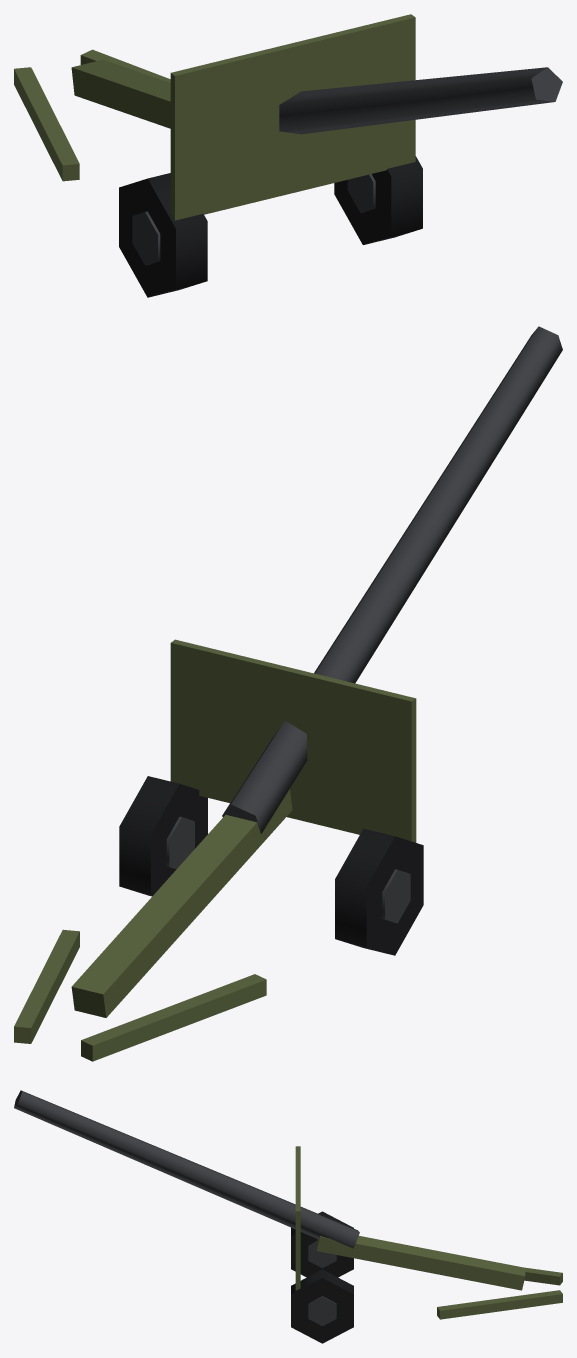
Rendered from unit_mil_gun_a07_lod1.glb.
The picture shows the model from 3 angles, top to bottom: view 1: azimuth 30°, elevation 25°; view 2: azimuth 150°, elevation 25°; view 3: azimuth 270°, elevation 25°; orthographic projection. The views are drawn at different scales.
Visible parts, largest first — view 1: body, barrel, wheel_0, wheel_1; view 2: body, barrel, wheel_0, wheel_1; view 3: barrel, body, wheel_1, wheel_0.
Part boxes in pixels (x1,y1,x2,y2): body: [14, 14, 415, 220]; barrel: [279, 67, 562, 134]; wheel_0: [119, 173, 207, 297]; wheel_1: [334, 156, 422, 244]; body: [14, 639, 416, 1061]; barrel: [222, 326, 562, 833]; wheel_0: [335, 828, 423, 955]; wheel_1: [119, 776, 207, 896]; barrel: [14, 1090, 359, 1248]; body: [295, 1146, 562, 1319]; wheel_1: [291, 1269, 353, 1343]; wheel_0: [291, 1211, 353, 1277].
Bounding box in the file's own units: 1.99 × 3 × 6.8.
